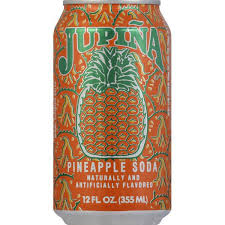can: (52, 1, 175, 225)
